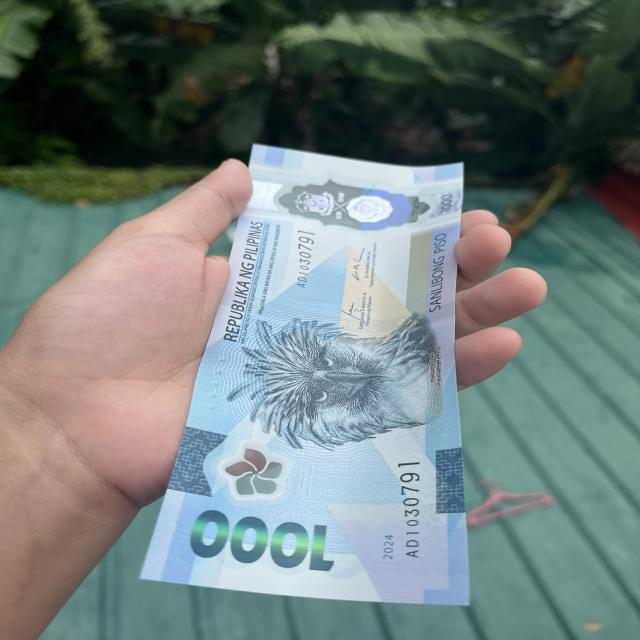clear_window: (280, 176, 426, 233)
eagle: (242, 310, 390, 445)
sampaguita: (201, 432, 326, 509)
serial_number: (399, 460, 434, 565), (278, 227, 326, 291)
value_watermark: (433, 192, 455, 222)
